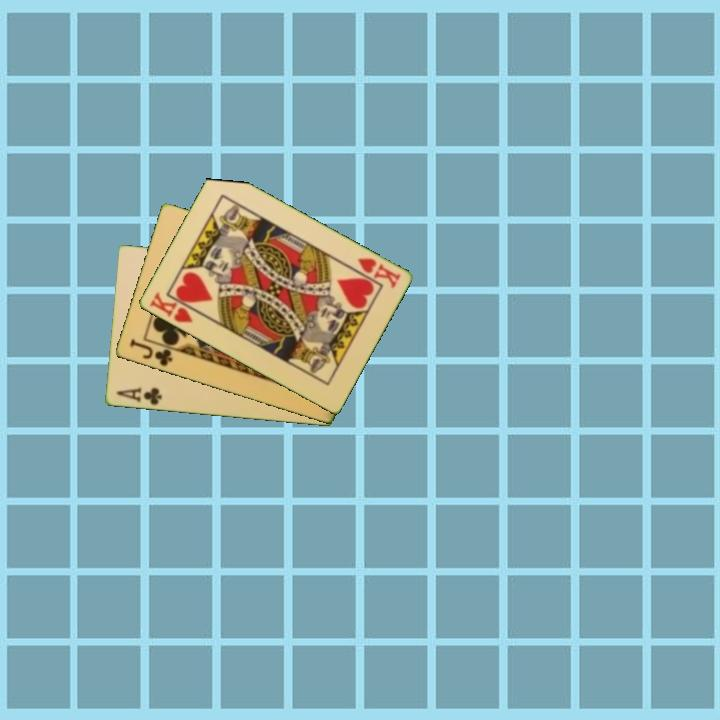Ac: (113, 384, 164, 408)
Jc: (126, 335, 175, 369)
Kh: (146, 289, 202, 326), (354, 254, 403, 292)
